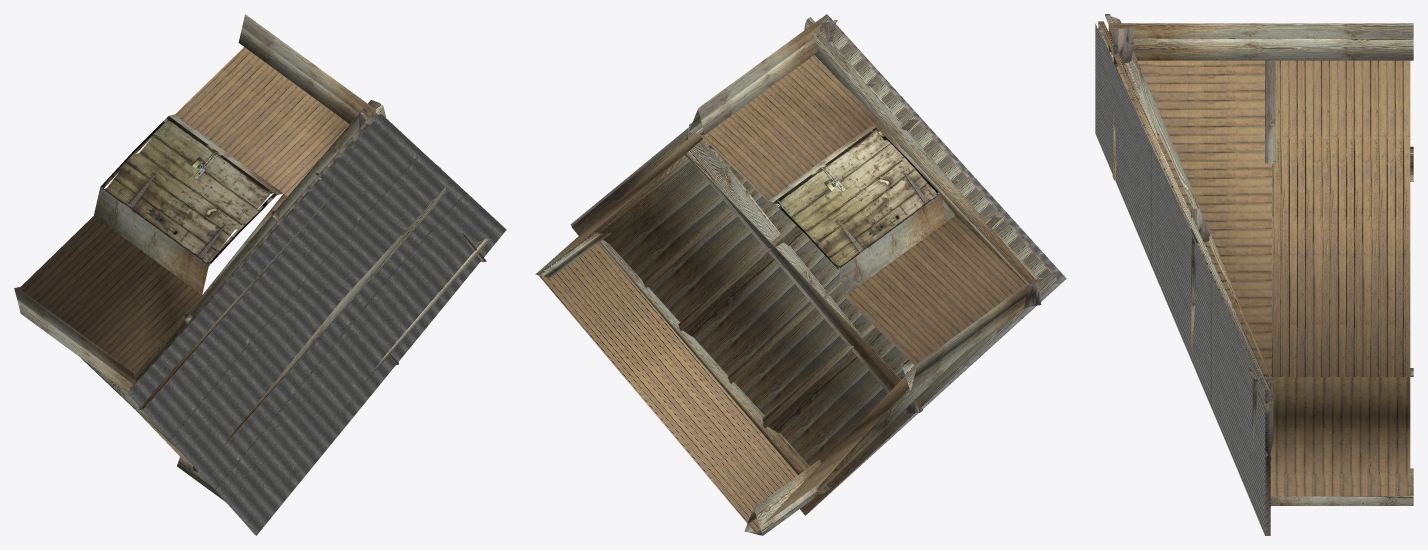
File: suurtyki_6_2-origo.obj
3 renders of one model, left to right at view 1: azimuth 30°, elevation 25°; view 2: azimuth 150°, elevation 25°; view 3: azimuth 270°, elevation 25°, orthographic. The views are drawn at different scales.
Visible parts, largest first — view 1: 6_2_puhas.obj; view 2: 6_2_puhas.obj; view 3: 6_2_puhas.obj.
Boxes of the visible parts, x1,y1,x2,y2 form: 6_2_puhas.obj: (14, 14, 506, 535); 6_2_puhas.obj: (535, 14, 1066, 535); 6_2_puhas.obj: (1095, 14, 1413, 535).
Size of the model in its own units: 8.69 by 8.5 by 4.52.
10 materials, 9 textured.
